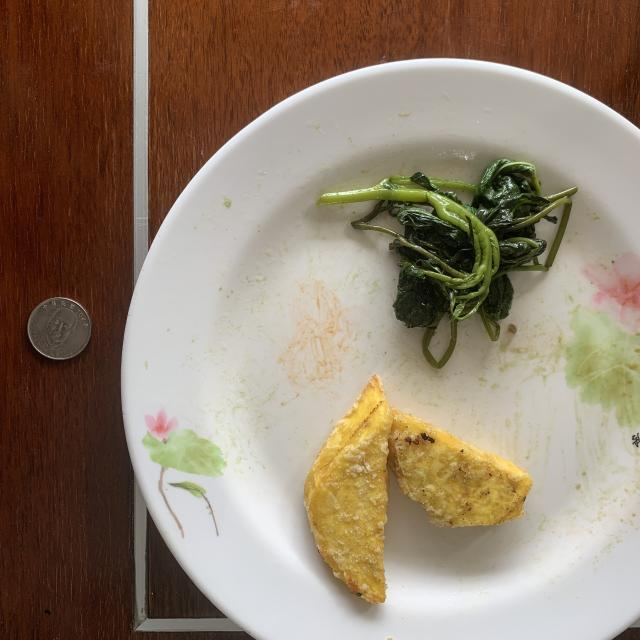coin: (28, 298, 91, 360)
sweet potato leaves: (318, 159, 578, 368)
